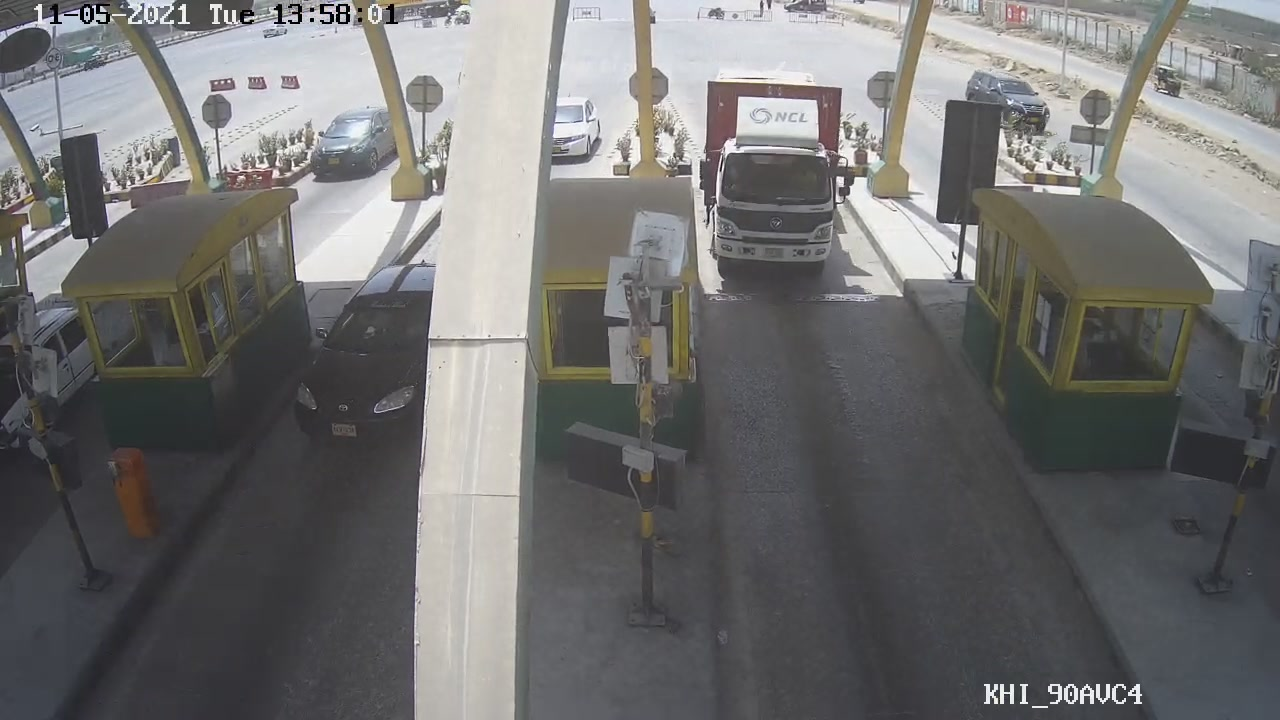F6: (695, 50, 870, 289)
